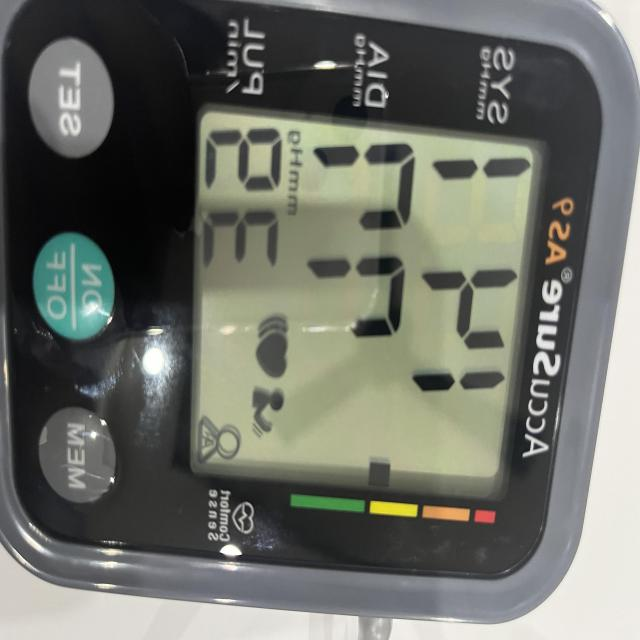bp: (0, 0, 640, 636)
